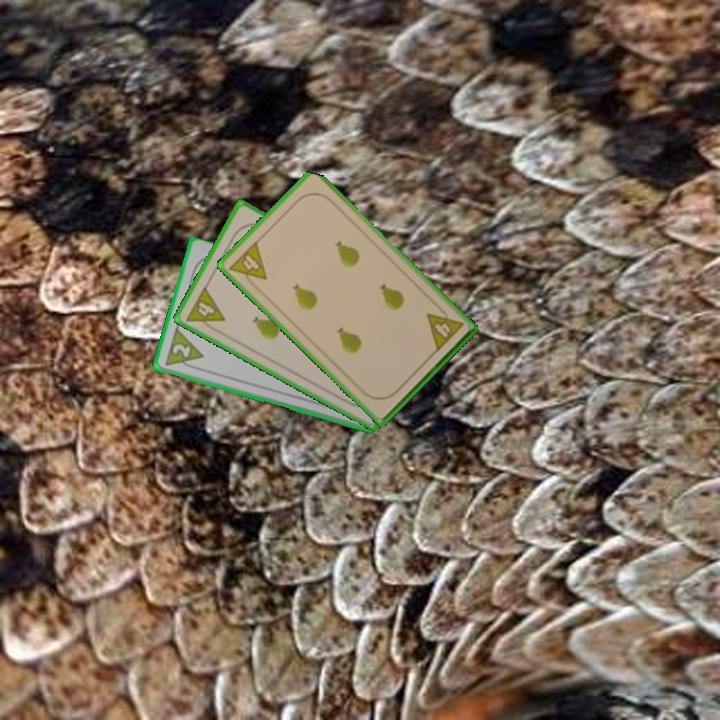2p: (161, 326, 206, 373)
4p: (225, 237, 270, 292), (182, 283, 228, 336), (423, 301, 466, 355)
